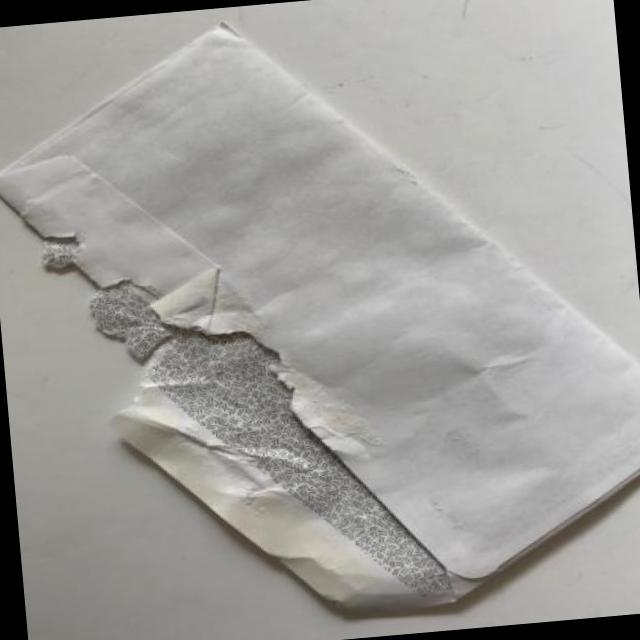paper: (48, 20, 637, 640)
